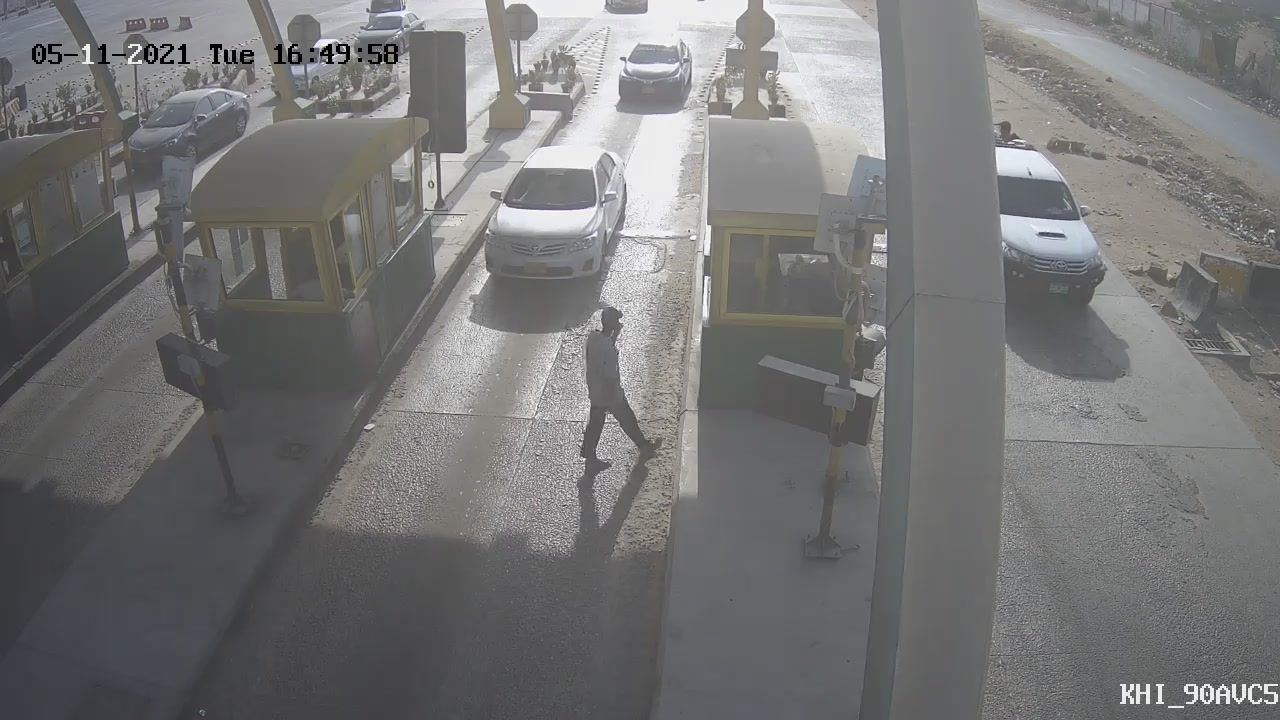F1: (469, 133, 642, 295)
